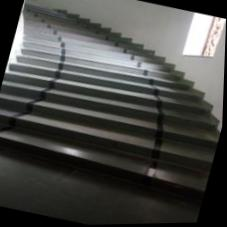Bench: (6, 61, 179, 192)
